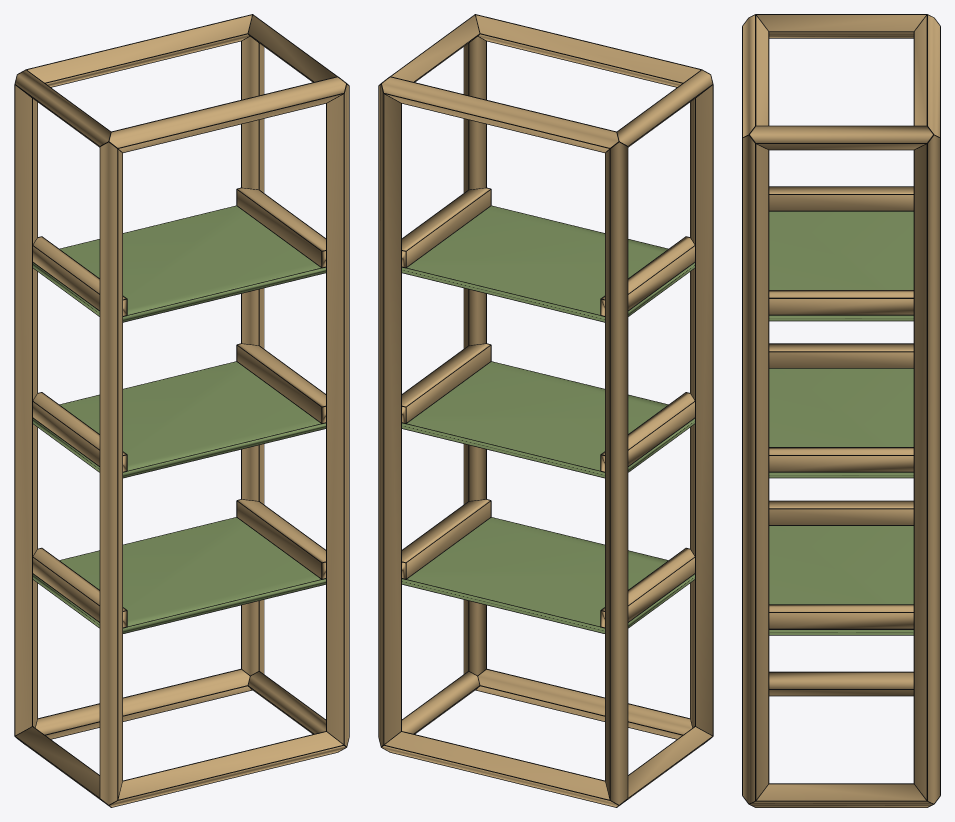
The model's file is etagere-grande.glb.
3 renders of one model, left to right at view 1: azimuth 30°, elevation 25°; view 2: azimuth 150°, elevation 25°; view 3: azimuth 270°, elevation 25°, orthographic.
Visible parts, largest first — view 1: tablette-plate-mod-1, tablette-plate-mod-0, tablette-plate-mod-2, arete-Z0, arete-Z1, arete-Z2, arete-Z3, arete-X2, arete-X0, arete-X3, arete-X1, arete-wire-Z0 (+20 smaller); view 2: tablette-plate-mod-1, tablette-plate-mod-0, tablette-plate-mod-2, arete-Z2, arete-Z3, arete-Z0, arete-Z1, arete-X3, arete-X1, arete-X2, arete-X0, arete-wire-Z2 (+20 smaller); view 3: arete-Z1, arete-Z3, tablette-plate-mod-1, tablette-plate-mod-2, tablette-plate-mod-0, arete-Y3, arete-Y1, arete-Y2, tablette-traverse-left-mod-0, tablette-traverse-left-mod-1, tablette-traverse-right-mod-2, arete-Y0 (+19 smaller).
Boxes of the visible parts, box(x1,y1,x2,y2) form: tablette-plate-mod-1: box(33, 362, 325, 477); tablette-plate-mod-0: box(33, 517, 325, 633); tablette-plate-mod-2: box(33, 206, 325, 321); arete-Z0: box(100, 142, 122, 804); arete-Z1: box(327, 85, 348, 745); arete-Z2: box(15, 85, 37, 735); arete-Z3: box(242, 36, 263, 675); arete-X2: box(109, 77, 345, 152); arete-X0: box(110, 732, 345, 806); arete-X3: box(28, 15, 251, 86); arete-X1: box(35, 669, 251, 738); arete-wire-Z0: box(99, 141, 122, 800); tablette-plate-mod-1: box(402, 362, 694, 477); tablette-plate-mod-0: box(402, 517, 694, 633); tablette-plate-mod-2: box(402, 206, 694, 321); arete-Z2: box(605, 142, 627, 804); arete-Z3: box(379, 85, 400, 745); arete-Z0: box(690, 85, 712, 735); arete-Z1: box(464, 36, 485, 675); arete-X3: box(382, 77, 618, 152); arete-X1: box(382, 732, 617, 806); arete-X2: box(476, 15, 699, 86); arete-X0: box(476, 669, 692, 738); arete-wire-Z2: box(605, 141, 628, 800); arete-Z1: box(743, 135, 768, 803); arete-Z3: box(914, 135, 939, 803); tablette-plate-mod-1: box(769, 368, 913, 477); tablette-plate-mod-2: box(769, 211, 913, 320); tablette-plate-mod-0: box(769, 526, 913, 634); arete-Y3: box(750, 126, 932, 149); arete-Y1: box(750, 784, 932, 807); arete-Y2: box(757, 15, 925, 37); tablette-traverse-left-mod-0: box(769, 501, 913, 524); tablette-traverse-left-mod-1: box(769, 344, 913, 367); tablette-traverse-right-mod-2: box(769, 290, 913, 314); arete-Y0: box(769, 672, 913, 695).
Bounding box in the file's own units: 0.6309 × 1.63 × 0.4309.
